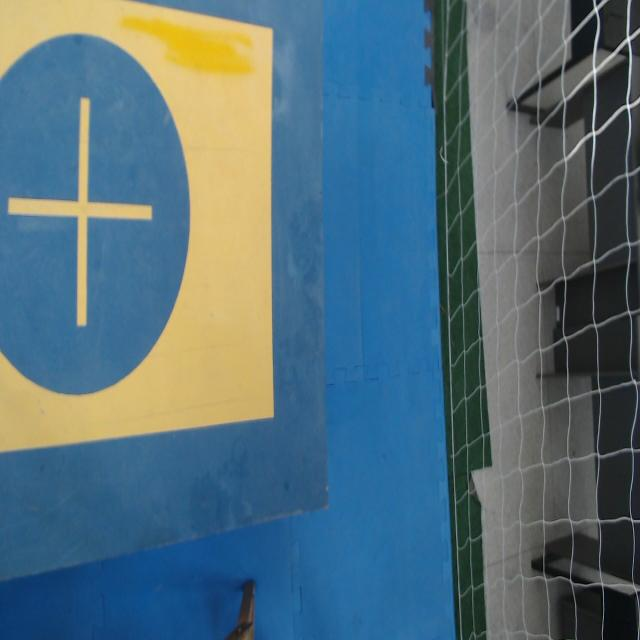base_inicio: (0, 0, 275, 454)
